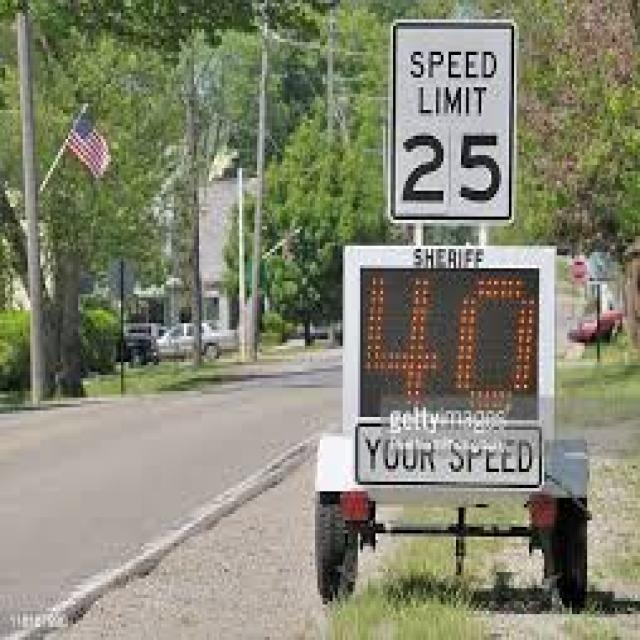speedLimit25: (388, 6, 514, 220)
